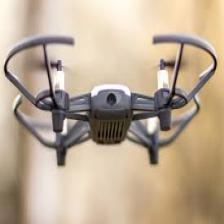drone: (4, 32, 218, 168)
